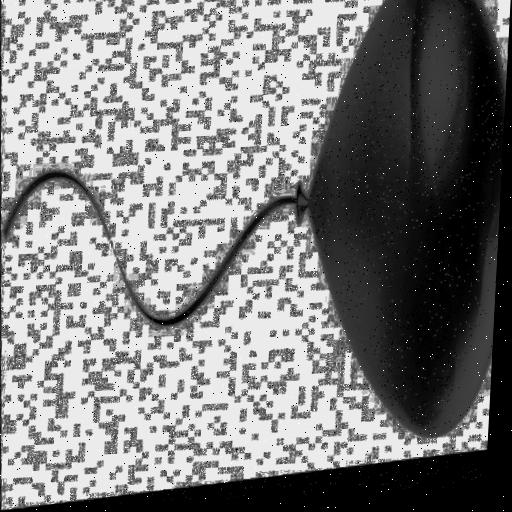balloon: (269, 0, 512, 478)
